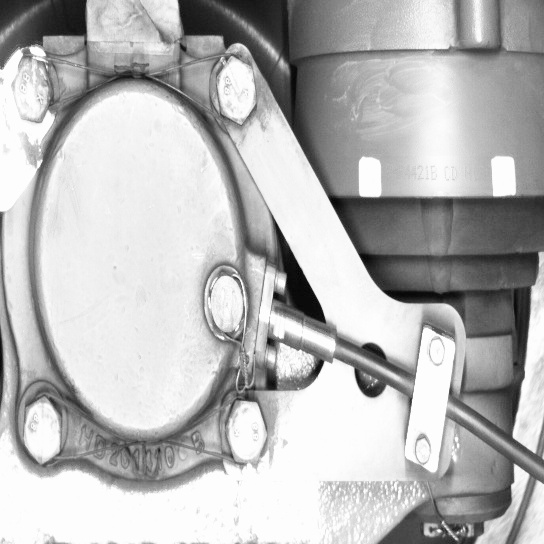IronWire: (17, 390, 274, 472), (6, 50, 262, 131)
Screw: (216, 391, 273, 471), (208, 50, 261, 130), (17, 390, 66, 471), (6, 51, 57, 127), (200, 266, 247, 340)
